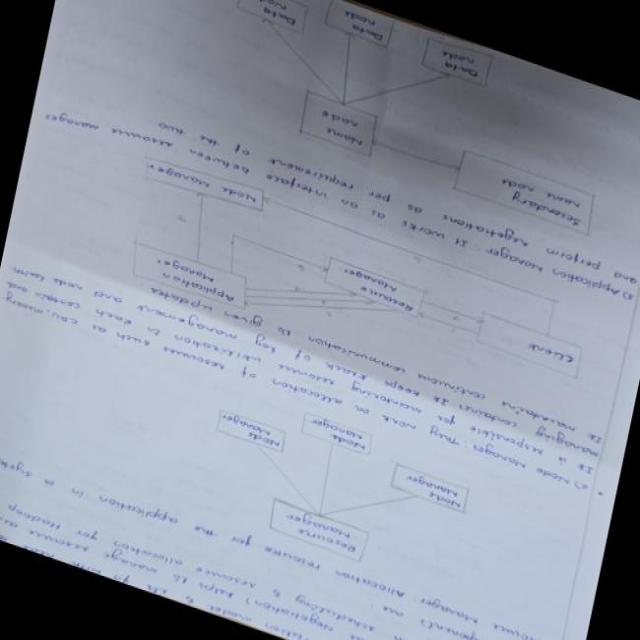Figure Detection - v3 Dataset Version2: (88, 138, 612, 432), (156, 0, 631, 250), (182, 368, 483, 606)
